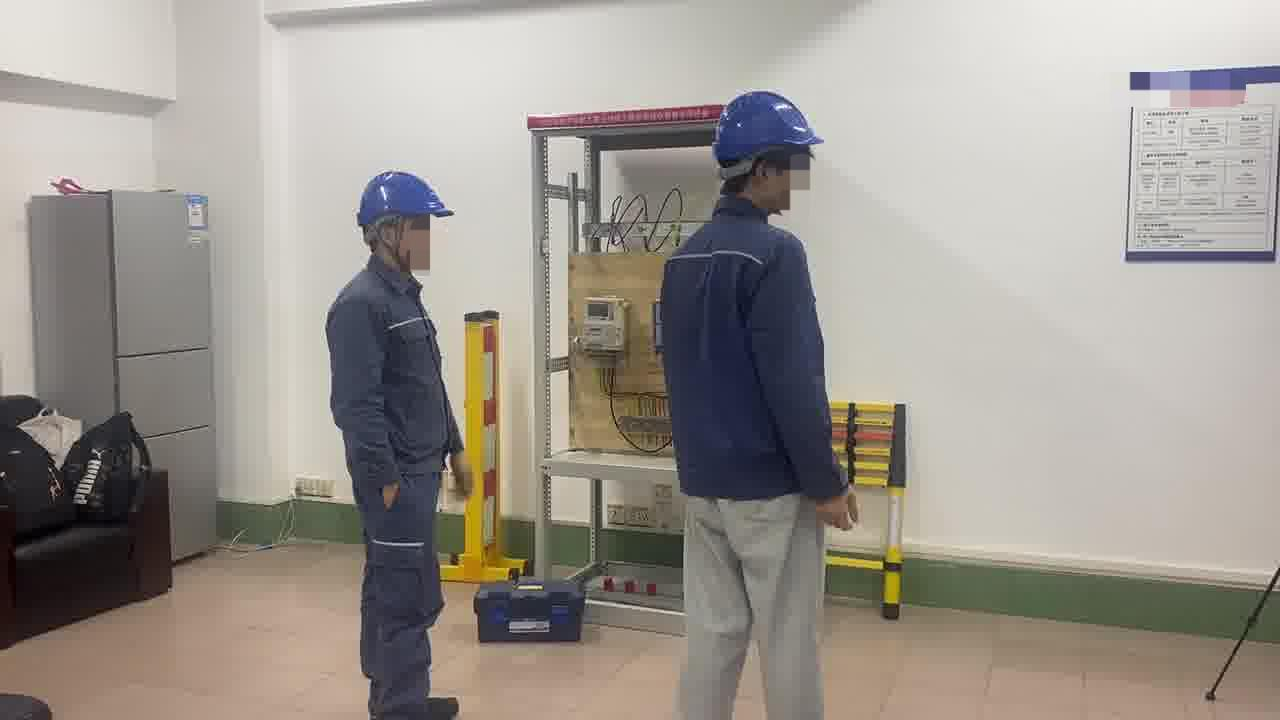halt: (712, 92, 827, 219), (356, 173, 455, 277)
inear: (371, 219, 411, 264)
noear: (747, 154, 780, 205)
